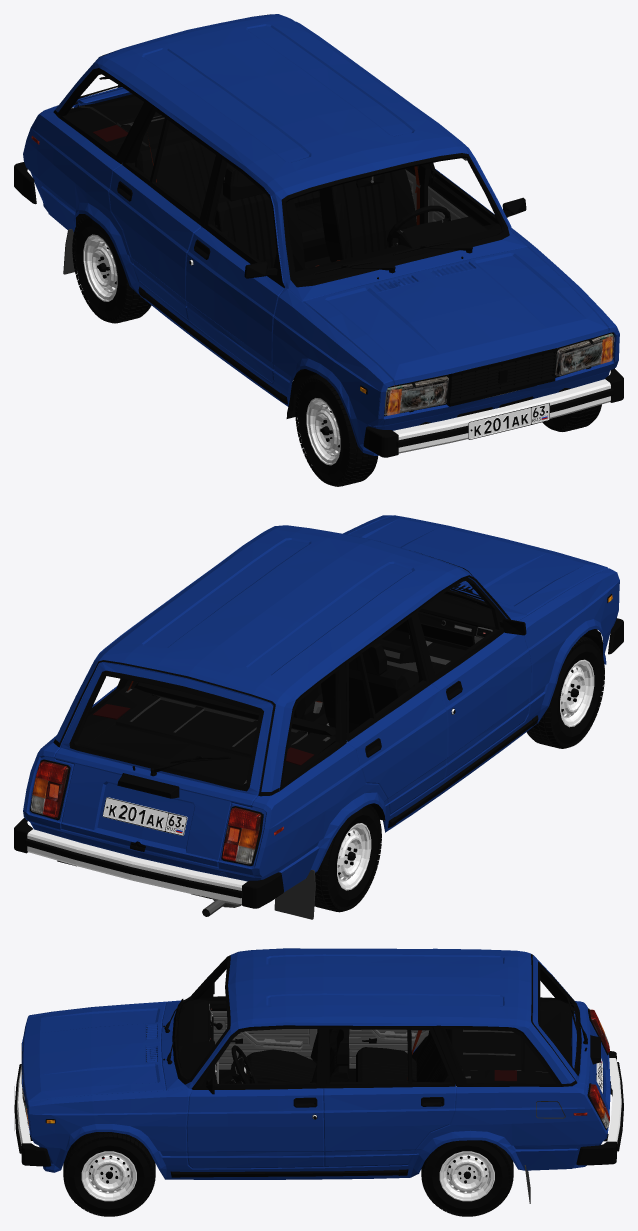
File: car2.glb
The picture shows the model from 3 angles, top to bottom: view 1: azimuth 30°, elevation 25°; view 2: azimuth 150°, elevation 25°; view 3: azimuth 270°, elevation 25°; orthographic projection. The views are drawn at different scales.
Size of the model in its own units: 2.32 by 1.89 by 5.43.
Materials: 45 (5 with a texture image).
